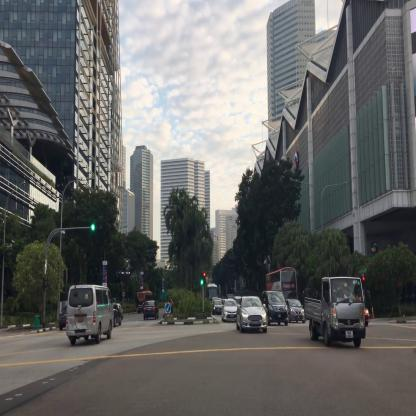green_traffic_light: (91, 224, 101, 229), (200, 272, 203, 285)
